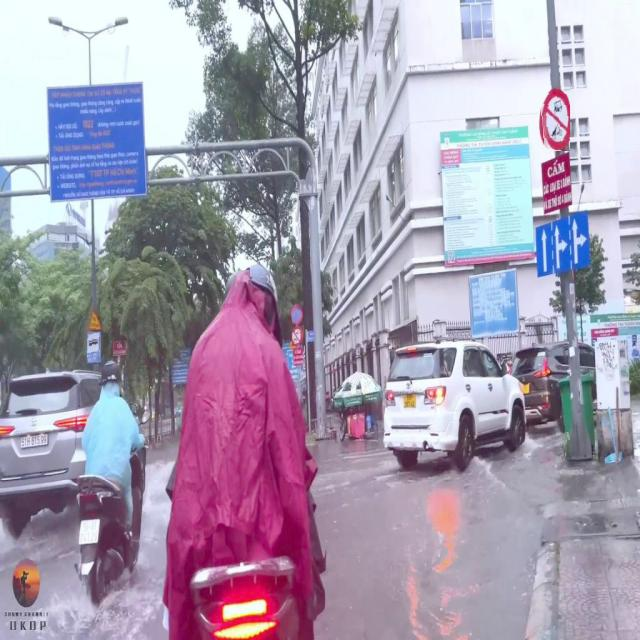cam_cac_loai_xe_3_banh: (539, 87, 570, 151), (292, 326, 303, 347)
cam_do_xe: (292, 304, 302, 324)
di_cham: (86, 309, 100, 330)
huong_di_tren_moi_lan_duong_theo_vach_ke_duong: (536, 210, 590, 278)
khac: (87, 332, 101, 362)
